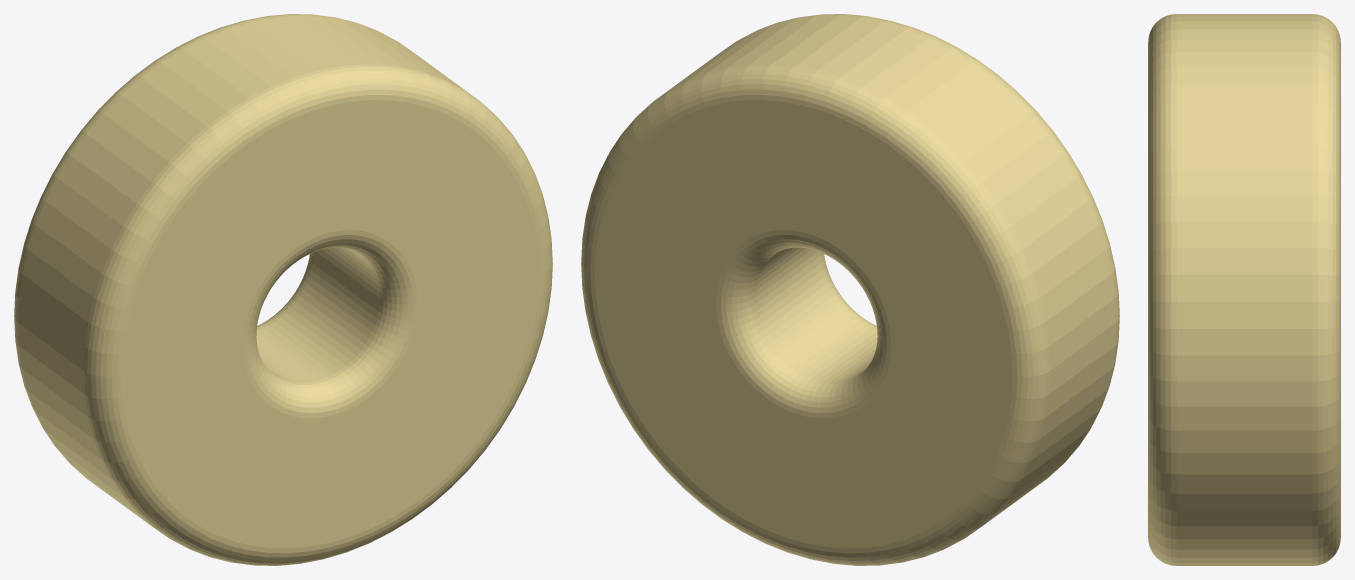
Rendered from ring_05.glb.
The picture shows the model from 3 angles, left to right: view 1: azimuth 30°, elevation 25°; view 2: azimuth 150°, elevation 25°; view 3: azimuth 270°, elevation 25°; orthographic projection. The views are drawn at different scales.
Visible parts, largest first — view 1: world; view 2: world; view 3: world.
Boxes of the visible parts, x1,y1,x2,y2 form: world: (14, 14, 552, 565); world: (581, 14, 1119, 565); world: (1148, 14, 1340, 565).
Size of the model in its own units: 0.0584 by 0.0584 by 0.0204.
